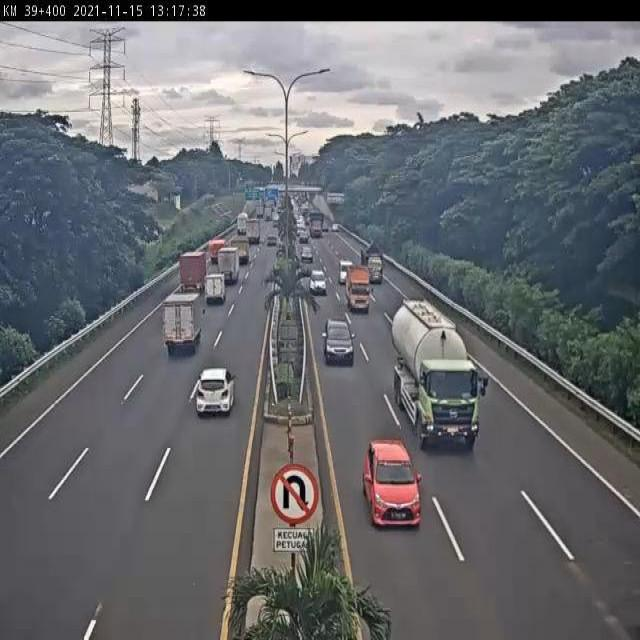car: (365, 436, 424, 532), (194, 364, 237, 416), (323, 317, 355, 364), (310, 266, 329, 294)
truck-l-: (393, 301, 486, 451)
truck-m-: (166, 289, 207, 352), (178, 248, 209, 292), (218, 247, 242, 281)
truck-s-: (343, 262, 373, 314), (360, 238, 386, 286), (206, 270, 228, 306)
